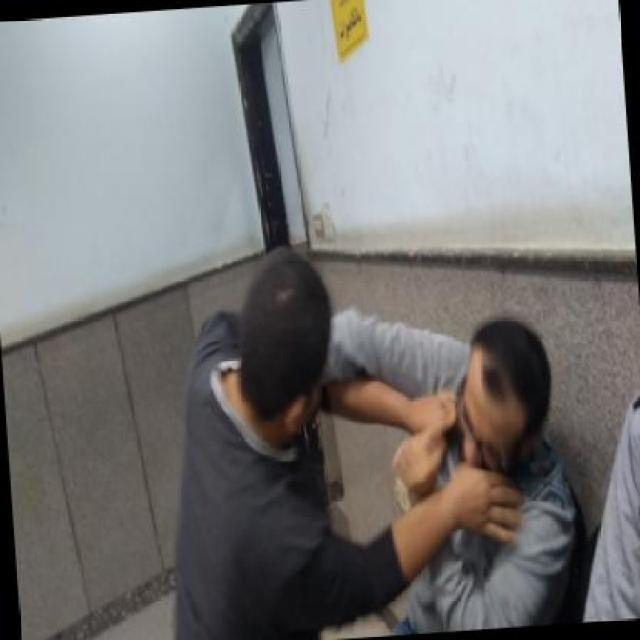fight: (160, 226, 586, 639)
